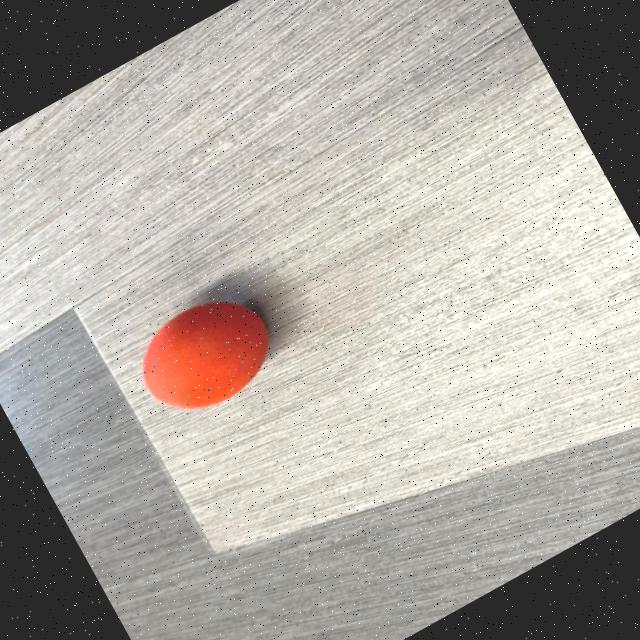ping-pong-ball: (122, 277, 290, 430)
